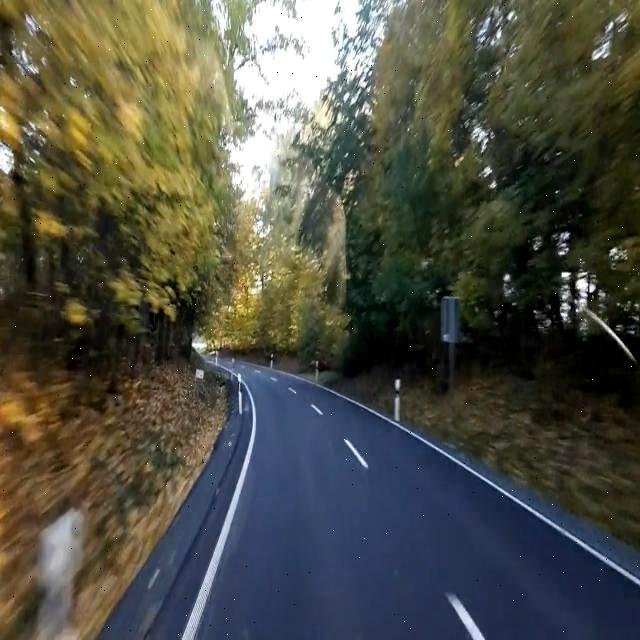lane: (310, 384, 639, 588), (181, 374, 256, 639), (446, 592, 486, 639), (344, 439, 369, 468), (463, 618, 484, 640)
road: (98, 363, 640, 639)
